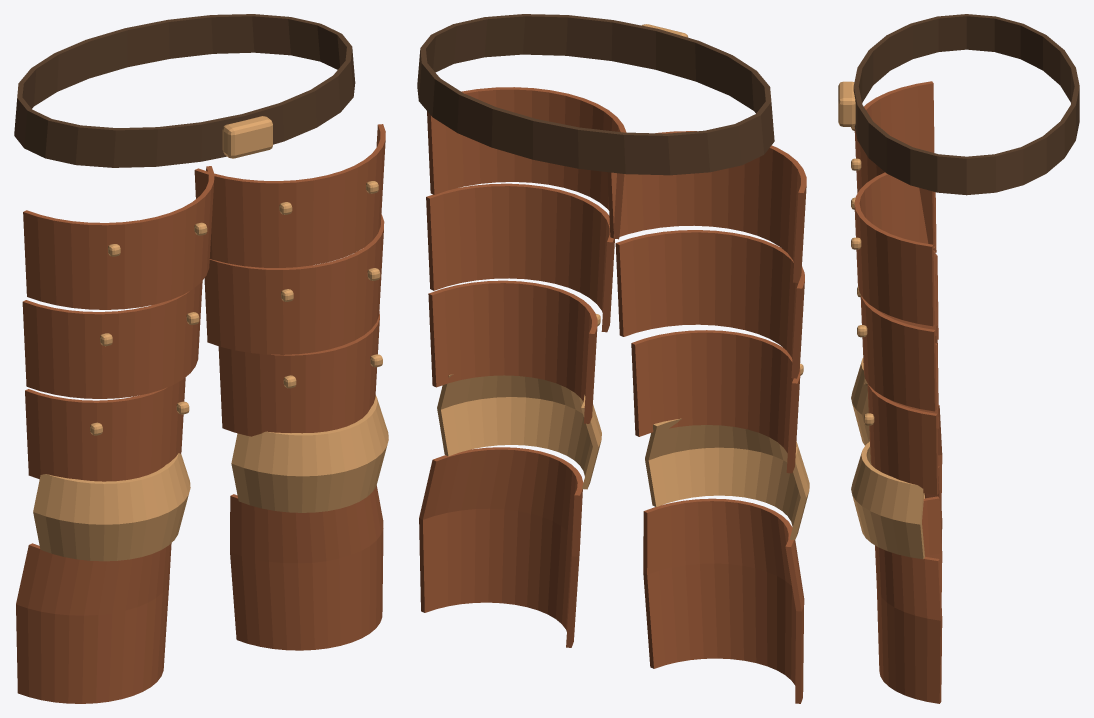
Rendered from LegsItem.fbx.
The picture shows the model from 3 angles, left to right: view 1: azimuth 30°, elevation 25°; view 2: azimuth 150°, elevation 25°; view 3: azimuth 270°, elevation 25°; orthographic projection. The views are drawn at different scales.
Visible parts, largest first — view 1: LegsItem; view 2: LegsItem; view 3: LegsItem.
Part boxes in pixels (<box>): LegsItem: <box>14,14,388,703</box>; LegsItem: <box>417,14,809,703</box>; LegsItem: <box>838,14,1079,703</box>.
Size of the model in its own units: 64.09 by 95 by 38.94.
Materials: 1 (1 with a texture image).
